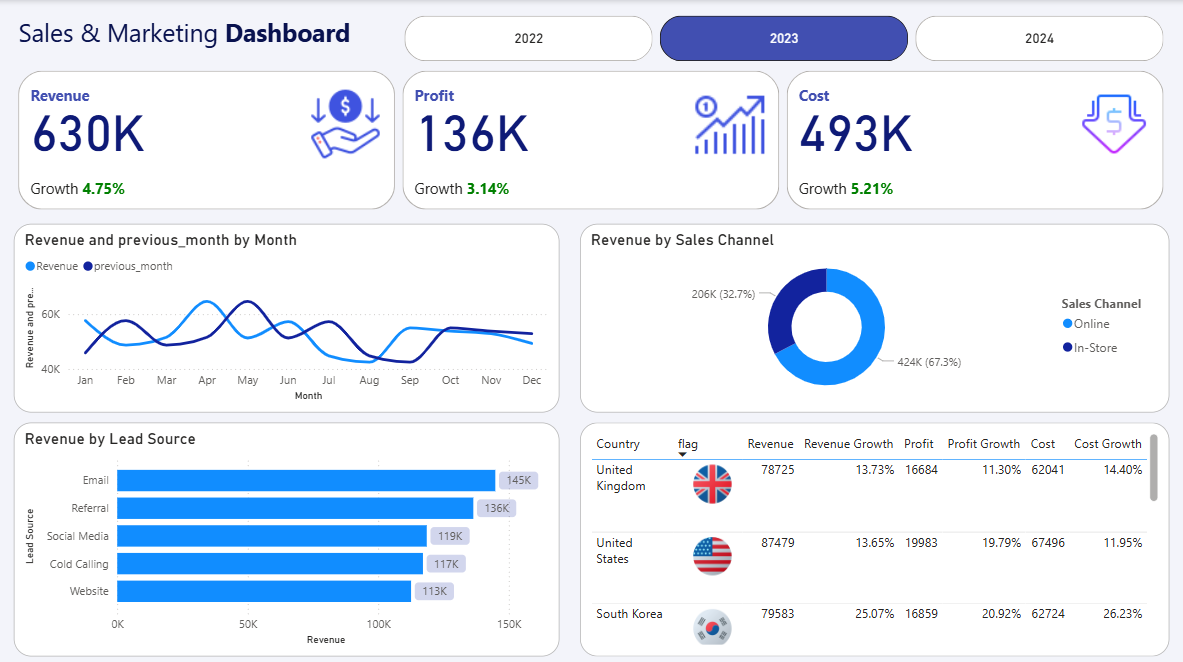

This screenshot's page, from the dashboard's own definition file:
{"tool":"powerbi","page":{"name":"Sales","canvas":[1280,720],"ordinal":0},"visuals":[{"type":"advancedSlicerVisual","fields":{"Values":["DimDate.Year"]},"box":[394.3,12.2,440.3,59.4],"z":0},{"type":"textbox","box":[14.9,12.2,505.1,289.2],"z":1000},{"type":"cardVisual","fields":{"Data":["Measuress.Revenue","Measuress.Profit","Measuress.Cost"]},"box":[2.7,90.5,1249.2,160.7],"z":2000},{"type":"tableEx","fields":{"Values":["DimCountry.Country","DimCountry.flag","Measuress.Revenue","Measuress.Revenue Growth","Measuress.Profit","Measuress.Profit Growth","Measuress.Cost","Measuress.Cost Growth"]},"box":[626.6,474,637.4,235],"z":3000},{"type":"lineChart","fields":{"Y":["Measuress.Revenue","Measuress.previous_month"],"Category":["DimDate.Month"]},"box":[14.9,263.3,588.8,194.5],"z":4000},{"type":"donutChart","fields":{"Y":["Measuress.Revenue"],"Category":["DimSalesChannel.Sales Channel"]},"box":[626.6,263.3,637.4,194.5],"z":5000},{"type":"clusteredBarChart","fields":{"Y":["Measuress.Revenue"],"Category":["DimLeadSOurce.Lead Source"]},"box":[14.9,474,588.8,235],"z":6000},{"type":"pageNavigator","box":[880.5,41.9,399.7,39.2],"z":7000},{"type":"textbox","box":[1027.7,0,252.5,59.4],"z":7001}]}

Visuals, with their boxes in screenshot pixels (x1, y1, x2, y2), scaled from the page's 1280x720 canvas onto the 1183x662 screenshot:
advancedSlicerVisual - DimDate.Year: [left=364, top=11, right=771, bottom=66]
textbox: [left=14, top=11, right=481, bottom=277]
cardVisual - Measuress.Revenue x Measuress.Profit: [left=2, top=83, right=1157, bottom=231]
tableEx - DimCountry.Country x DimCountry.flag: [left=579, top=436, right=1168, bottom=652]
lineChart - Measuress.Revenue x Measuress.previous_month: [left=14, top=242, right=558, bottom=421]
donutChart - Measuress.Revenue x DimSalesChannel.Sales Channel: [left=579, top=242, right=1168, bottom=421]
clusteredBarChart - Measuress.Revenue x DimLeadSOurce.Lead Source: [left=14, top=436, right=558, bottom=652]
pageNavigator: [left=814, top=39, right=1182, bottom=75]
textbox: [left=950, top=0, right=1182, bottom=55]
